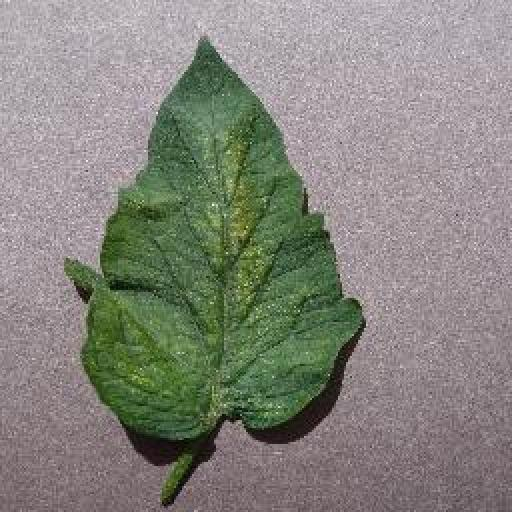disease_tomato: (62, 32, 362, 440)
